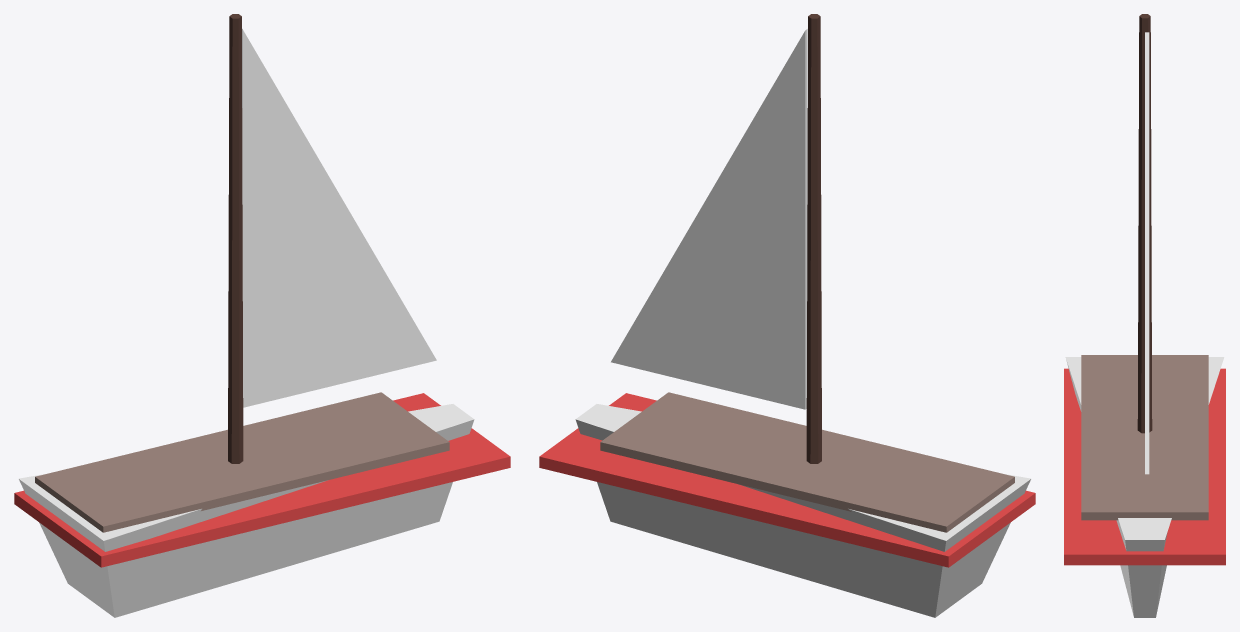
Rendered from sailboat.glb.
3 renders of one model, left to right at view 1: azimuth 30°, elevation 25°; view 2: azimuth 150°, elevation 25°; view 3: azimuth 270°, elevation 25°, orthographic. The views are drawn at different scales.
Parts seen in each view (by area): view 1: sailboat; view 2: sailboat; view 3: sailboat.
Part boxes in pixels (x1=…): sailboat: x1=14, y1=14, x2=510, y2=617; sailboat: x1=539, y1=14, x2=1035, y2=617; sailboat: x1=1064, y1=14, x2=1225, y2=617.
Bounding box in the file's own units: 3.05 × 3.91 × 1.12.
